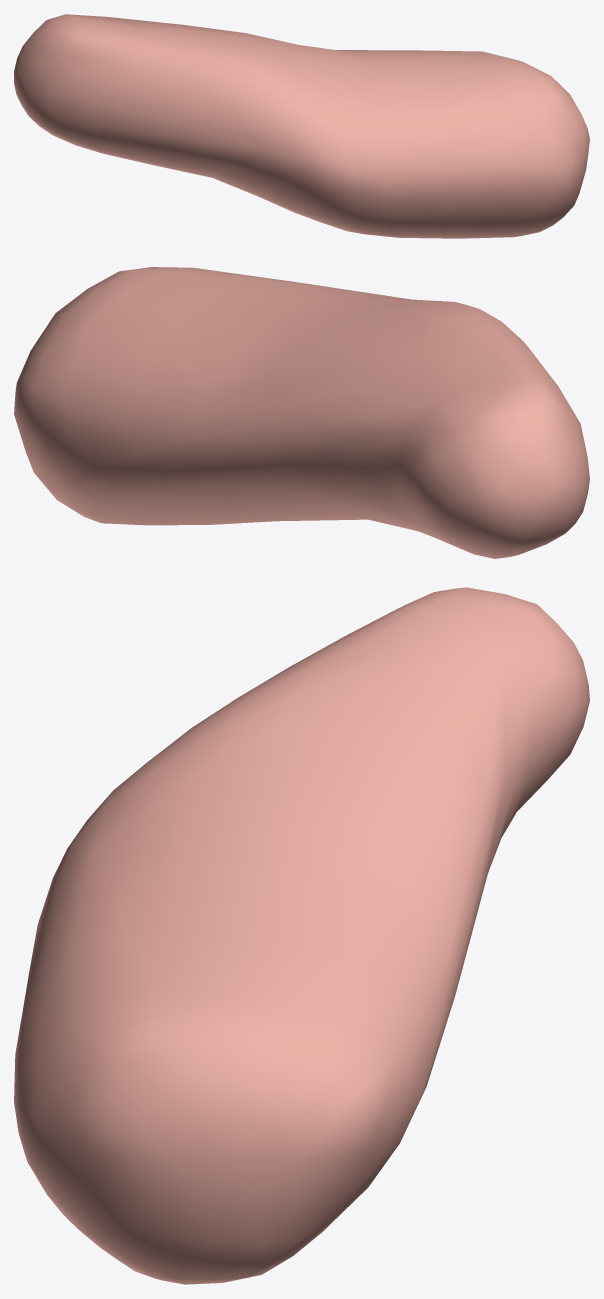
File: pv-right-inferior.glb
The picture shows the model from 3 angles, top to bottom: view 1: azimuth 30°, elevation 25°; view 2: azimuth 150°, elevation 25°; view 3: azimuth 270°, elevation 25°; orthographic projection. The views are drawn at different scales.
Visible parts, largest first — view 1: structure; view 2: structure; view 3: structure.
Part boxes in pixels (x1,y1,x2,y2): structure: [14, 14, 589, 238]; structure: [14, 267, 589, 558]; structure: [14, 587, 589, 1284].
Bounding box in the file's own units: 27.35 × 12.98 × 17.58.
